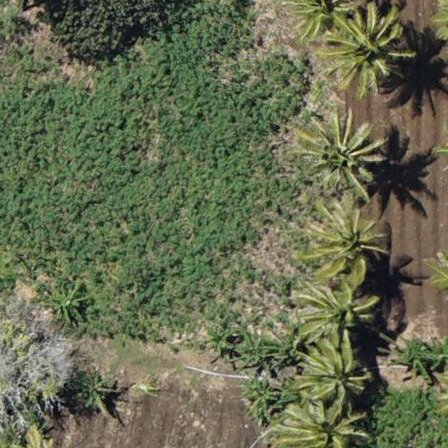palm_tree: (327, 4, 411, 93), (296, 105, 379, 193), (304, 201, 384, 287), (303, 333, 371, 406), (286, 393, 367, 448), (298, 285, 373, 335)
